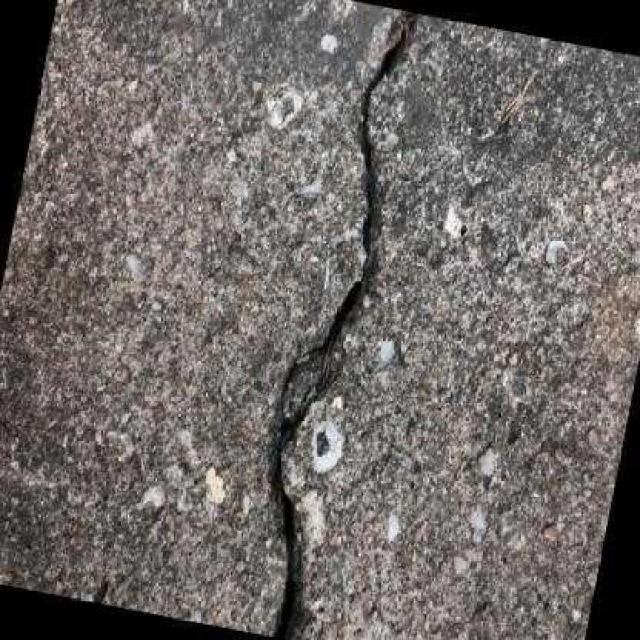D00: (268, 10, 421, 639)
